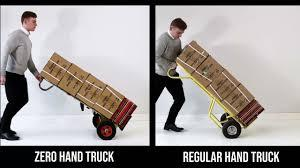Boxes: (57, 64, 91, 97), (92, 86, 126, 119), (177, 40, 210, 74), (221, 83, 255, 116), (207, 69, 242, 101), (39, 52, 71, 86), (75, 76, 108, 108), (192, 55, 224, 86)
